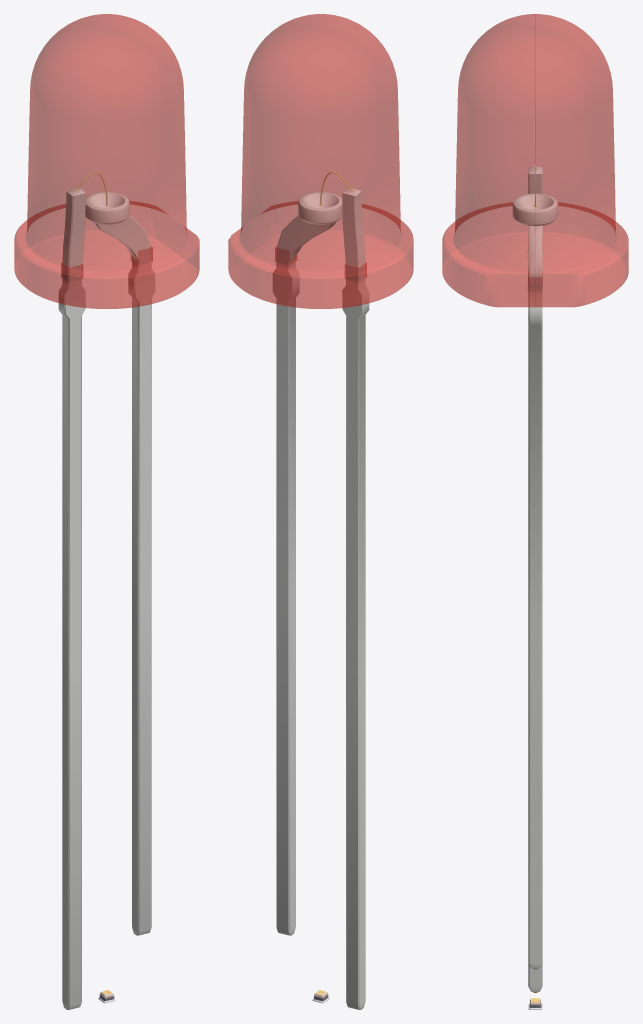
File: 03_LED_Desarme_Despiece_Materiales.glb
3 renders of one model, left to right at view 1: azimuth 30°, elevation 25°; view 2: azimuth 150°, elevation 25°; view 3: azimuth 270°, elevation 25°, orthographic.
Parts seen in each view (by area): view 1: 05_Capsula_Epoxi_T134, 02_Terminal_Anodo_Poste, 01_Terminal_Catodo_Yunque; view 2: 05_Capsula_Epoxi_T134, 02_Terminal_Anodo_Poste, 01_Terminal_Catodo_Yunque; view 3: 05_Capsula_Epoxi_T134, 01_Terminal_Catodo_Yunque, 02_Terminal_Anodo_Poste.
Boxes of the visible parts, left/top/right/bottom form: 05_Capsula_Epoxi_T134: left=14, top=14, right=199, bottom=308; 02_Terminal_Anodo_Poste: left=58, top=188, right=85, bottom=1009; 01_Terminal_Catodo_Yunque: left=85, top=192, right=154, bottom=935; 05_Capsula_Epoxi_T134: left=228, top=14, right=413, bottom=308; 02_Terminal_Anodo_Poste: left=342, top=188, right=369, bottom=1009; 01_Terminal_Catodo_Yunque: left=273, top=192, right=342, bottom=935; 05_Capsula_Epoxi_T134: left=442, top=14, right=628, bottom=307; 01_Terminal_Catodo_Yunque: left=512, top=193, right=558, bottom=969; 02_Terminal_Anodo_Poste: left=528, top=166, right=542, bottom=992.
Size of what is drawn, in the model's own units: 5.5 by 34.1 by 5.85.
Materials: 22 (19 with a texture image).
